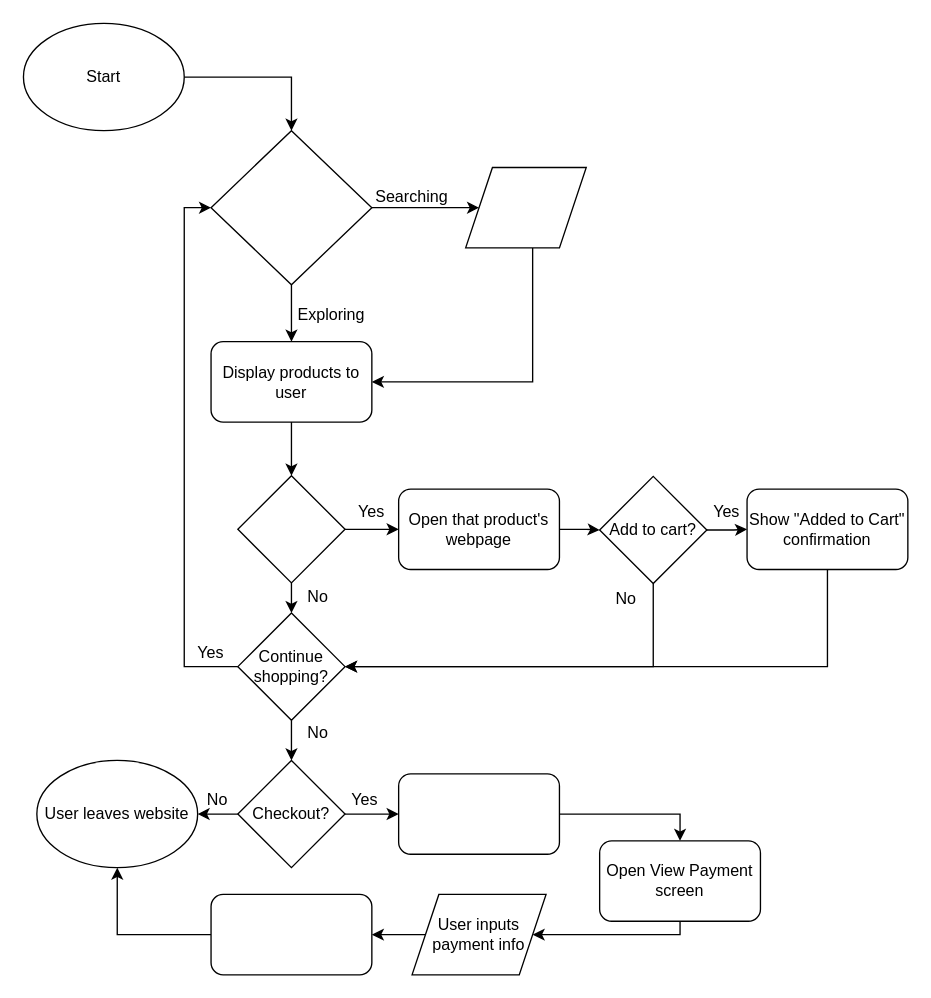
This 931x998 diagram has some shape labels left out. Each missing label, with the centre of its shape:
Choose to view item?: (x=291, y=528)
Get search query: (x=525, y=207)
Open View Cart screen: (x=478, y=813)
Order Confirmation screen, send email: (x=291, y=934)
Searching or exploring home page?: (x=291, y=207)
